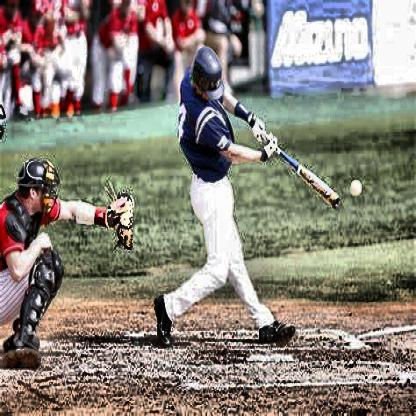baseball: (352, 181, 362, 201)
